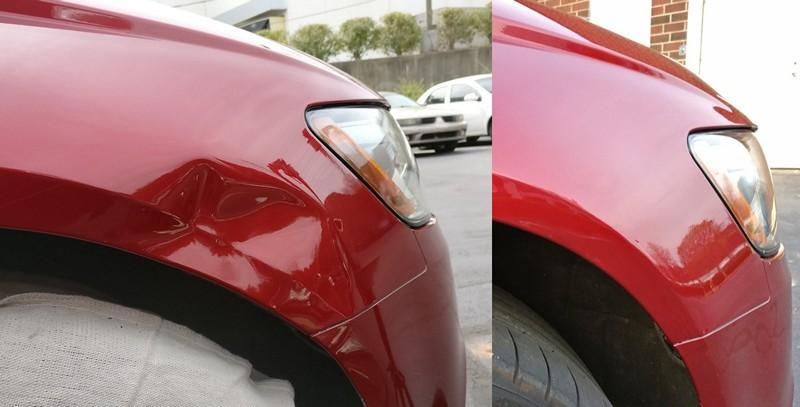dent: (99, 149, 349, 331)
